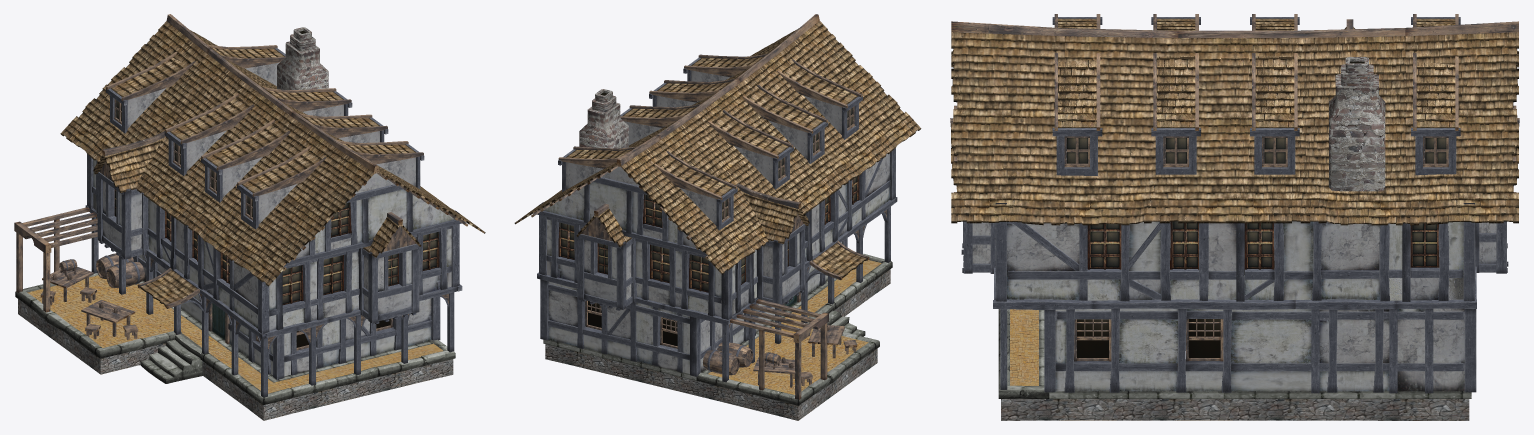
Rendered from tavern_house_5.glb.
3 views of the same model, side by side, from view 1: azimuth 30°, elevation 25°; view 2: azimuth 150°, elevation 25°; view 3: azimuth 270°, elevation 25° (orthographic). The views are drawn at different scales.
Visible parts, largest first — view 1: Object293_Material #27_0, Object015_Material #28_0, Object079_Material #29_0; view 2: Object293_Material #27_0, Object015_Material #28_0, Object079_Material #29_0; view 3: Object015_Material #28_0, Object293_Material #27_0, Object079_Material #29_0.
Boxes of the visible parts, left/top/right/bottom form: Object293_Material #27_0: left=14, top=14, right=467, bottom=397; Object015_Material #28_0: left=60, top=21, right=485, bottom=306; Object079_Material #29_0: left=15, top=27, right=455, bottom=420; Object293_Material #27_0: left=531, top=14, right=897, bottom=399; Object015_Material #28_0: left=514, top=21, right=921, bottom=277; Object079_Material #29_0: left=543, top=89, right=892, bottom=420; Object015_Material #28_0: left=951, top=18, right=1518, bottom=225; Object293_Material #27_0: left=950, top=14, right=1519, bottom=393; Object079_Material #29_0: left=998, top=57, right=1471, bottom=420.
Size of the model in its own units: 13.19 by 11.31 by 16.85.
Materials: 3 (3 with a texture image).
